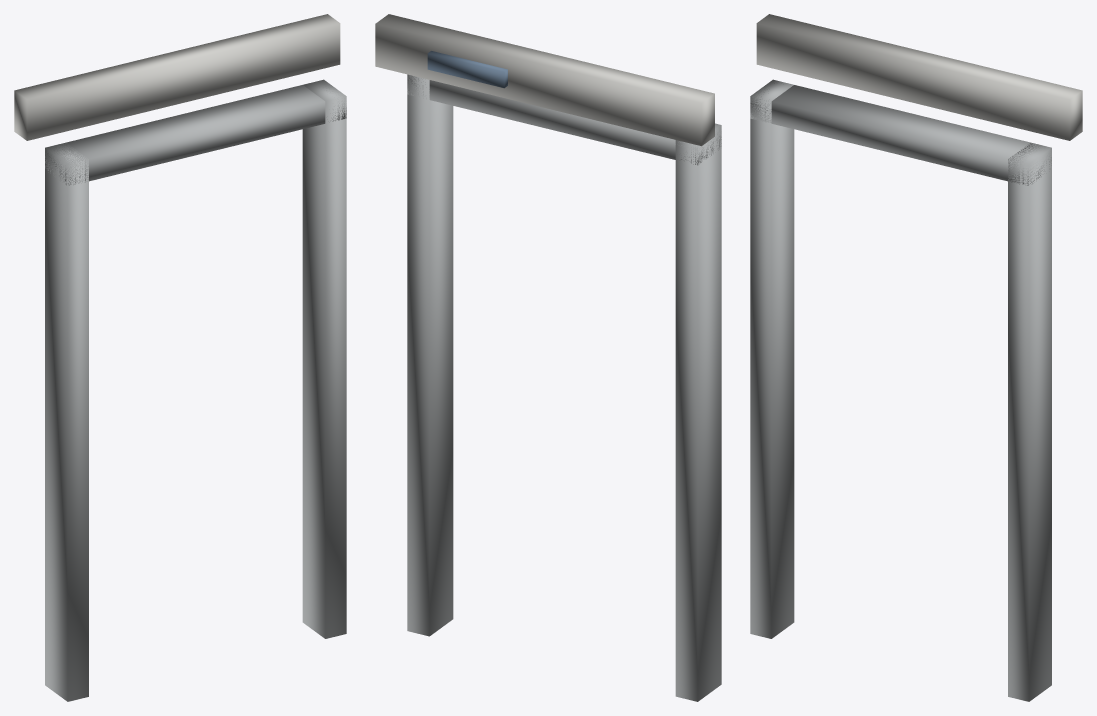
The model's file is doorway_hospital_w96_h200_d16.glb.
3 renders of one model, left to right at view 1: azimuth 30°, elevation 25°; view 2: azimuth 150°, elevation 25°; view 3: azimuth 330°, elevation 25°, orthographic. The views are drawn at different scales.
Parts seen in each view (by area): view 1: world; view 2: world; view 3: world.
Part boxes in pixels (x1,y1,x2,y2): world: (14,14,346,701); world: (375,14,721,701); world: (750,14,1082,701).
Size of the model in its own units: 1.27 by 2.29 by 0.28.
